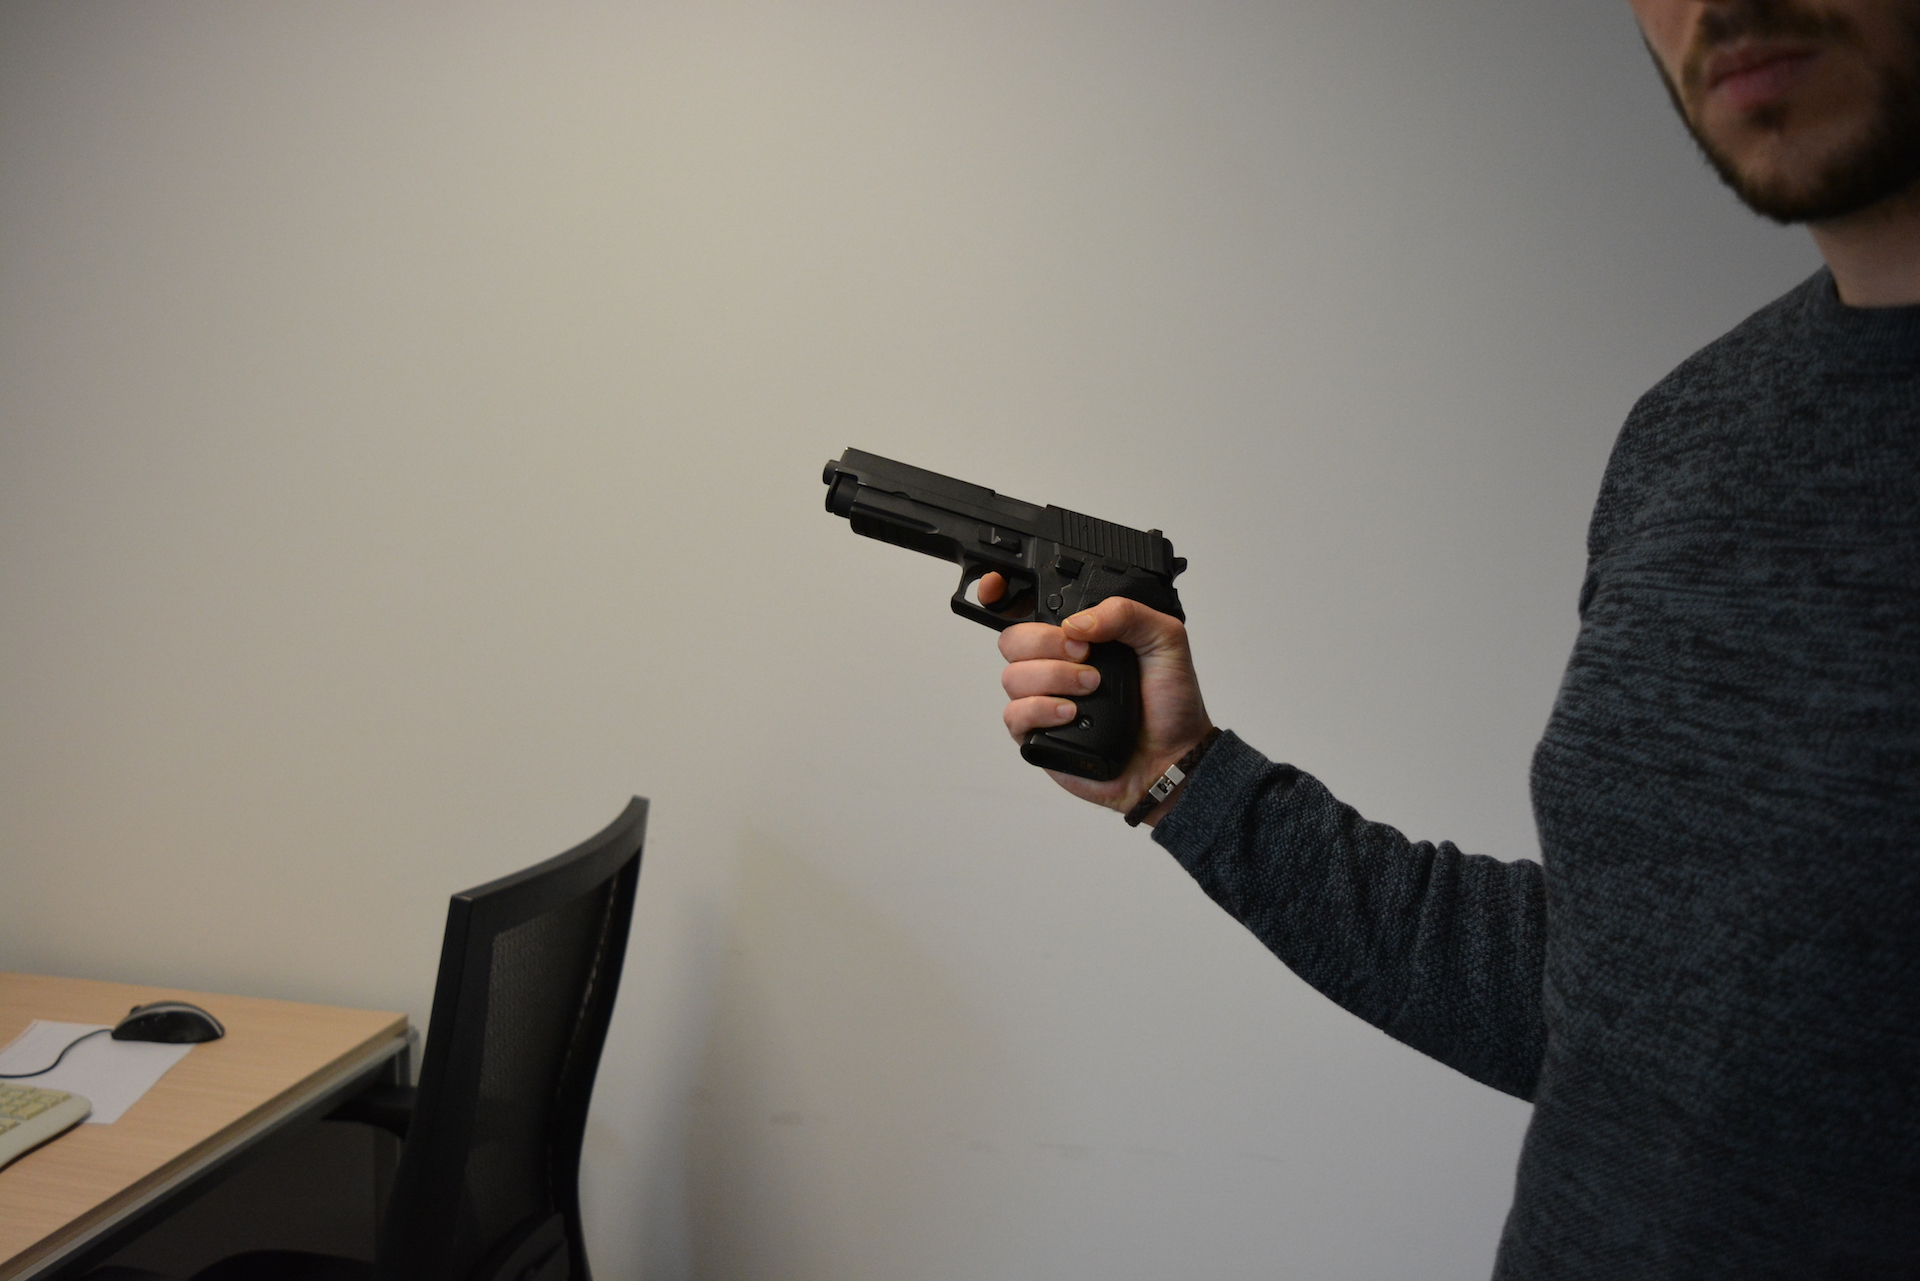pistol: (821, 445, 1189, 783)
